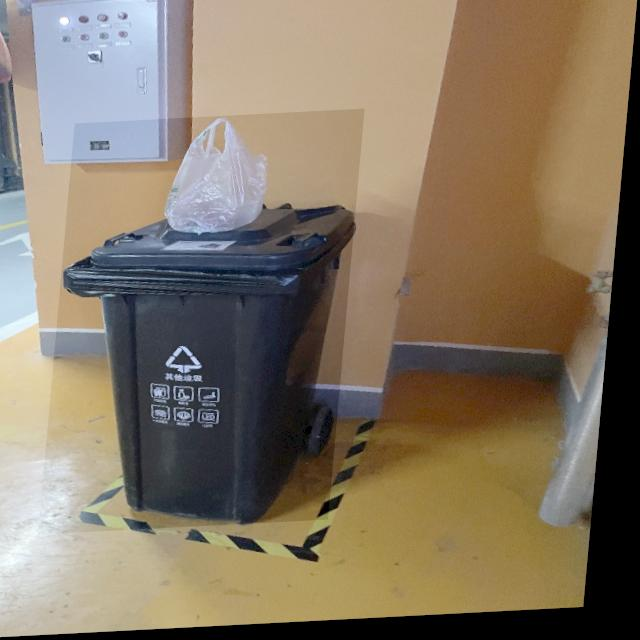overflow: (48, 113, 367, 535)
